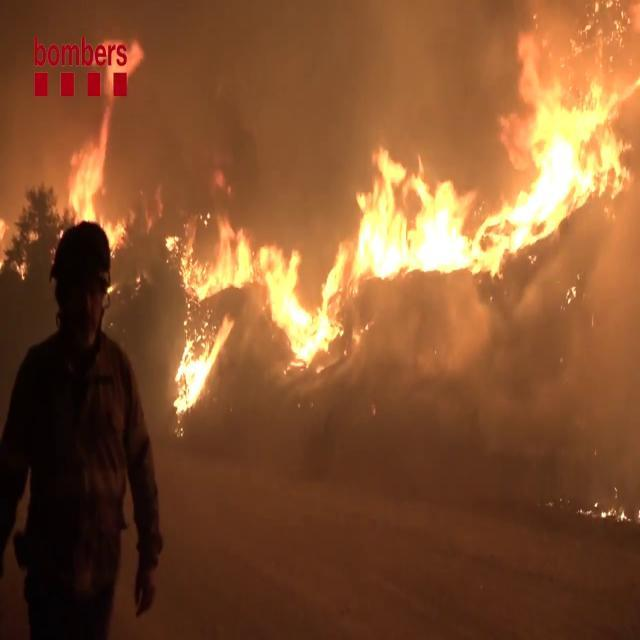Fire: (351, 10, 639, 288), (164, 191, 346, 417), (66, 112, 125, 262)
